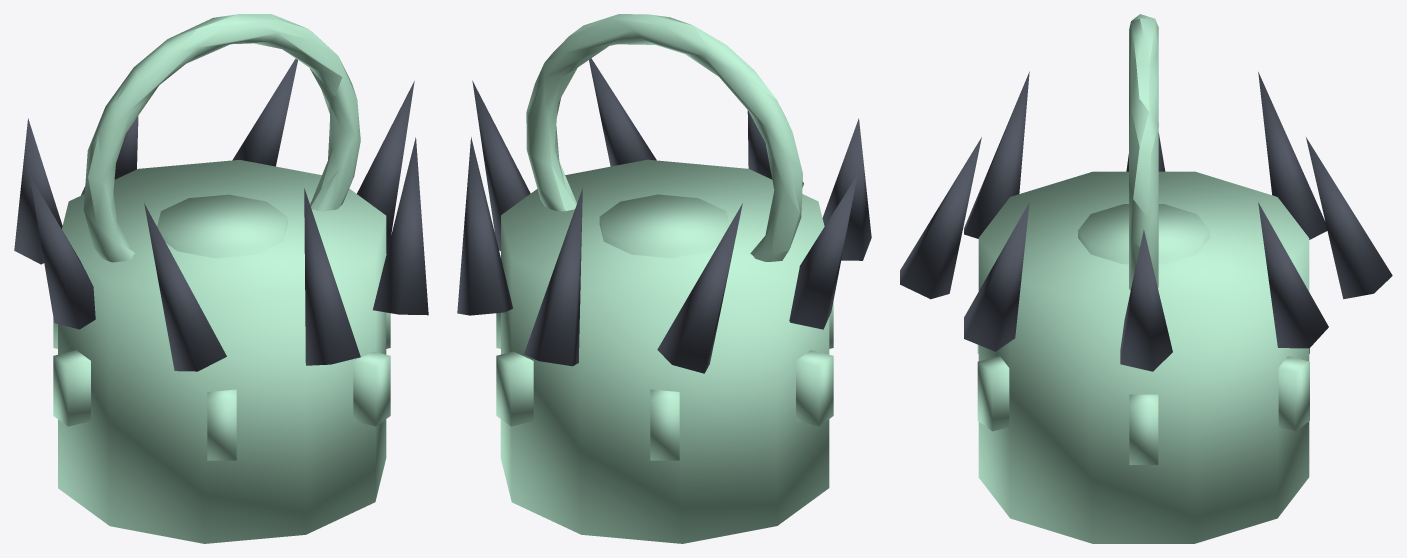
The model's file is SM_Boss_Bergbahn_LOD3.fbx.
3 renders of one model, left to right at view 1: azimuth 30°, elevation 25°; view 2: azimuth 150°, elevation 25°; view 3: azimuth 270°, elevation 25°, orthographic.
Visible parts, largest first — view 1: SM_Boss_Bergbahn_LOD3; view 2: SM_Boss_Bergbahn_LOD3; view 3: SM_Boss_Bergbahn_LOD3.
Part boxes in pixels (<box>): SM_Boss_Bergbahn_LOD3: <box>14,14,428,543</box>; SM_Boss_Bergbahn_LOD3: <box>457,14,871,543</box>; SM_Boss_Bergbahn_LOD3: <box>900,14,1392,543</box>.
Size of the model in its own units: 3.28 by 3.76 by 3.68.
